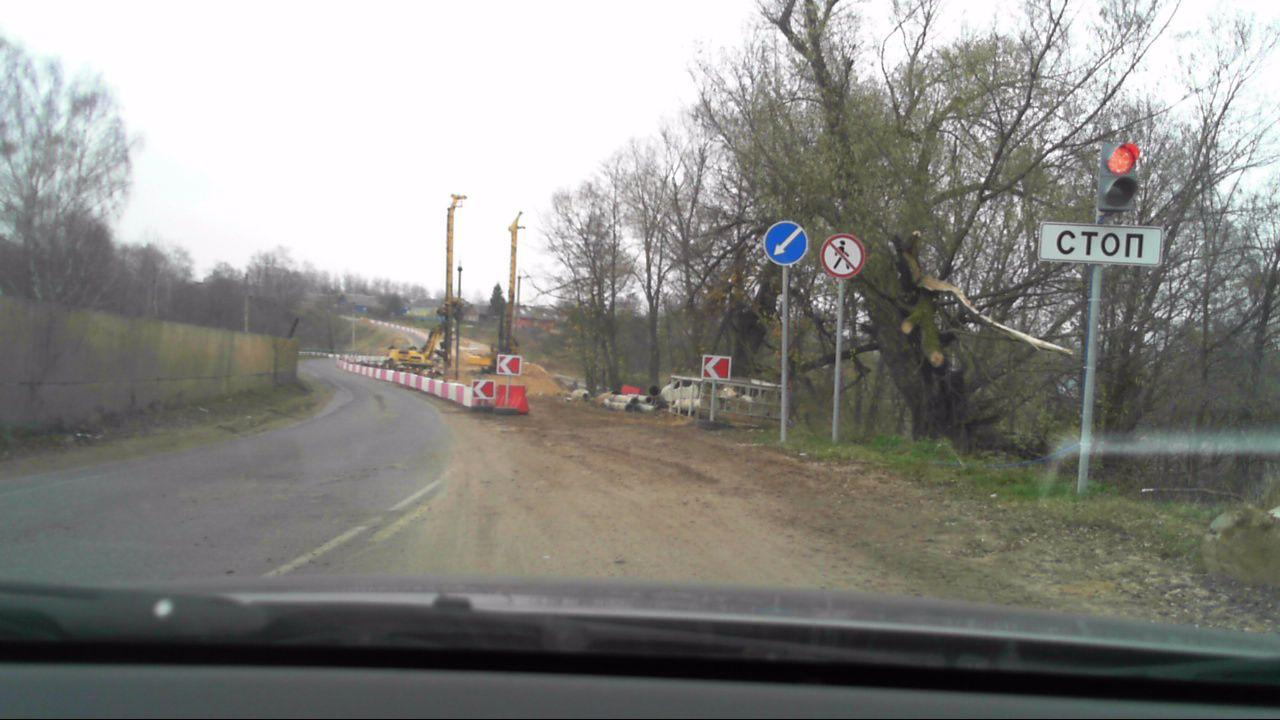1_34_2: (702, 353, 732, 382), (495, 352, 524, 375), (471, 379, 496, 400)
3_10: (821, 232, 863, 279)
4_2_2: (766, 221, 809, 265)
6_16: (1037, 216, 1163, 268)
